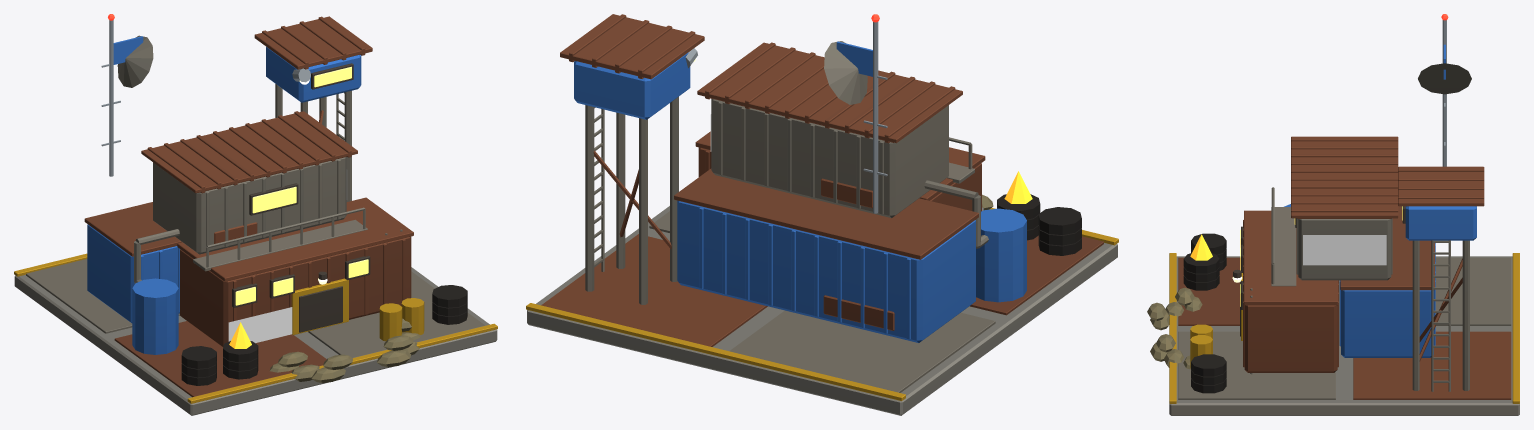
Rendered from conseil.glb.
3 renders of one model, left to right at view 1: azimuth 30°, elevation 25°; view 2: azimuth 150°, elevation 25°; view 3: azimuth 270°, elevation 25°, orthographic. The views are drawn at different scales.
Parts seen in each view (by area): view 1: conseil, tag_0; view 2: conseil; view 3: conseil, tag_1.
Boxes of the visible parts, x1,y1,x2,y2 form: conseil: (14,14,497,415); tag_0: (228,307,292,343); conseil: (526,14,1118,415); conseil: (1147,14,1519,415); tag_1: (1303,235,1386,265).
Bounding box in the file's own units: 4.9 × 4.37 × 5.21.
